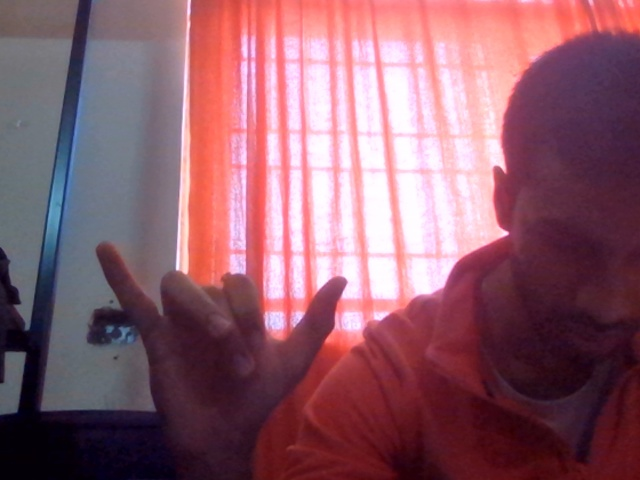Y: (66, 219, 376, 452)
